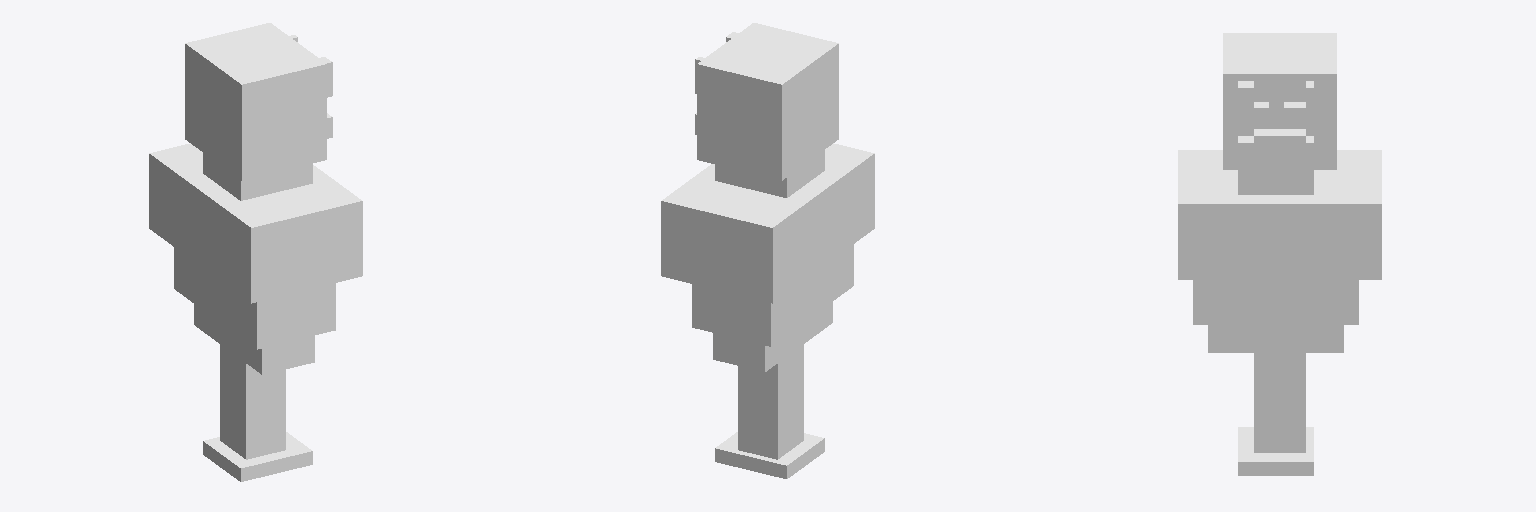
File: scarecrow.obj
The picture shows the model from 3 angles: view 1: azimuth 30°, elevation 25°; view 2: azimuth 150°, elevation 25°; view 3: azimuth 270°, elevation 25°; orthographic projection.
Parts seen in each view (by area): view 1: object 1; view 2: object 1; view 3: object 1.
Part boxes in pixels (bbox=[...]): object 1: bbox=[149, 23, 362, 481]; object 1: bbox=[661, 23, 874, 478]; object 1: bbox=[1178, 33, 1381, 475].
Size of the model in its own units: 1.7 by 5.9 by 2.7.